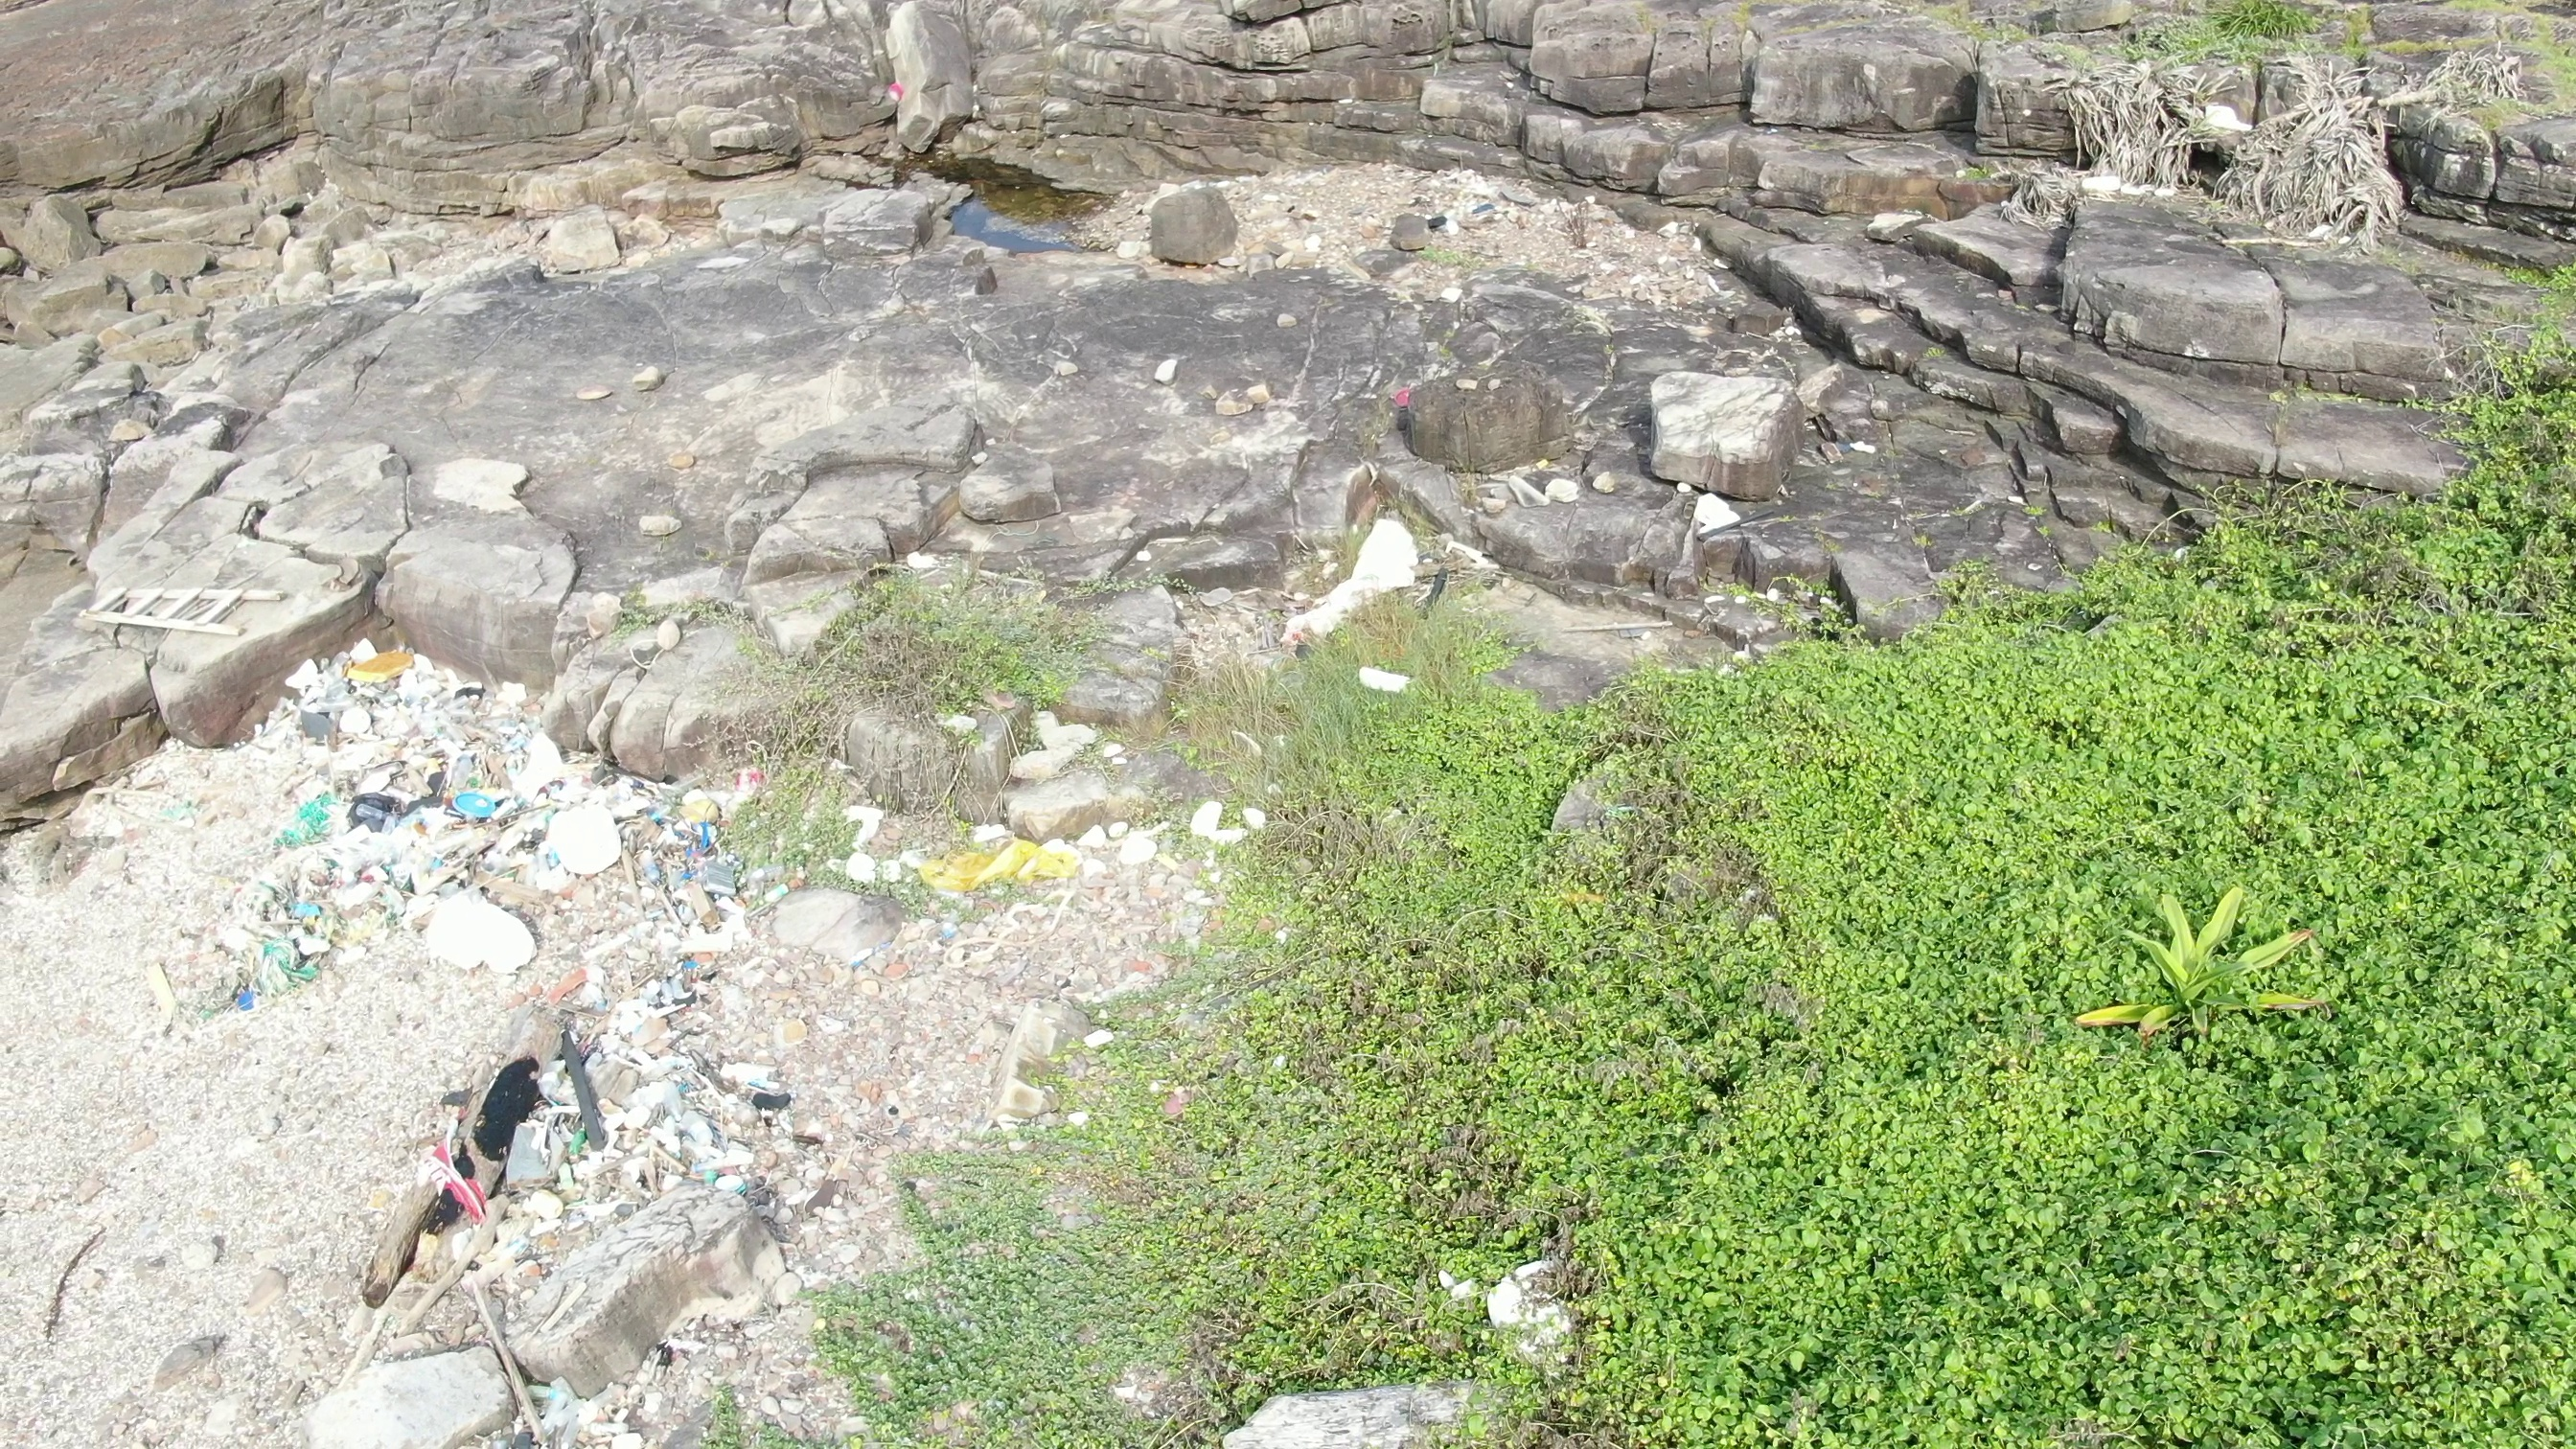garbage: (357, 985, 839, 1449), (186, 642, 596, 1026), (593, 729, 800, 1000), (1270, 520, 1470, 651), (844, 819, 1076, 902), (76, 577, 295, 637), (1408, 143, 1541, 239), (1359, 656, 1433, 708), (1380, 375, 1447, 425), (885, 73, 909, 110)
